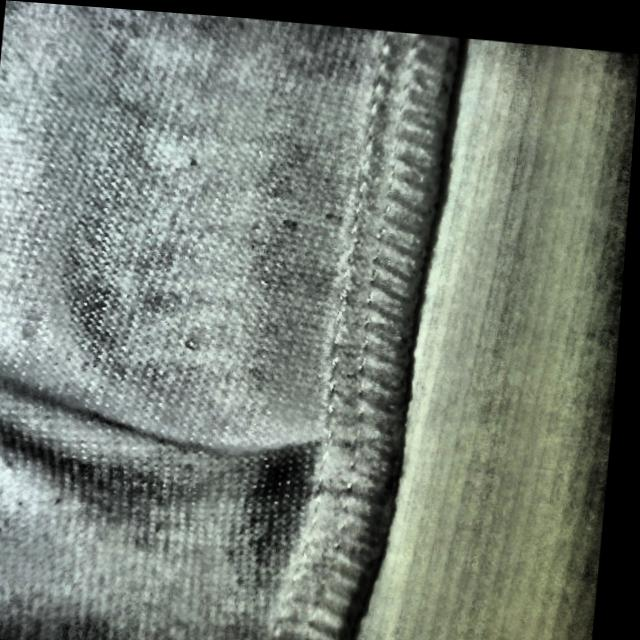seam: (71, 371, 411, 547)
